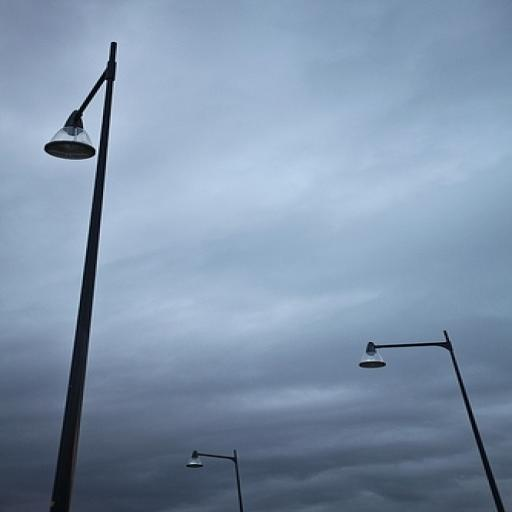off street light: (360, 312, 512, 512), (180, 443, 259, 512)
